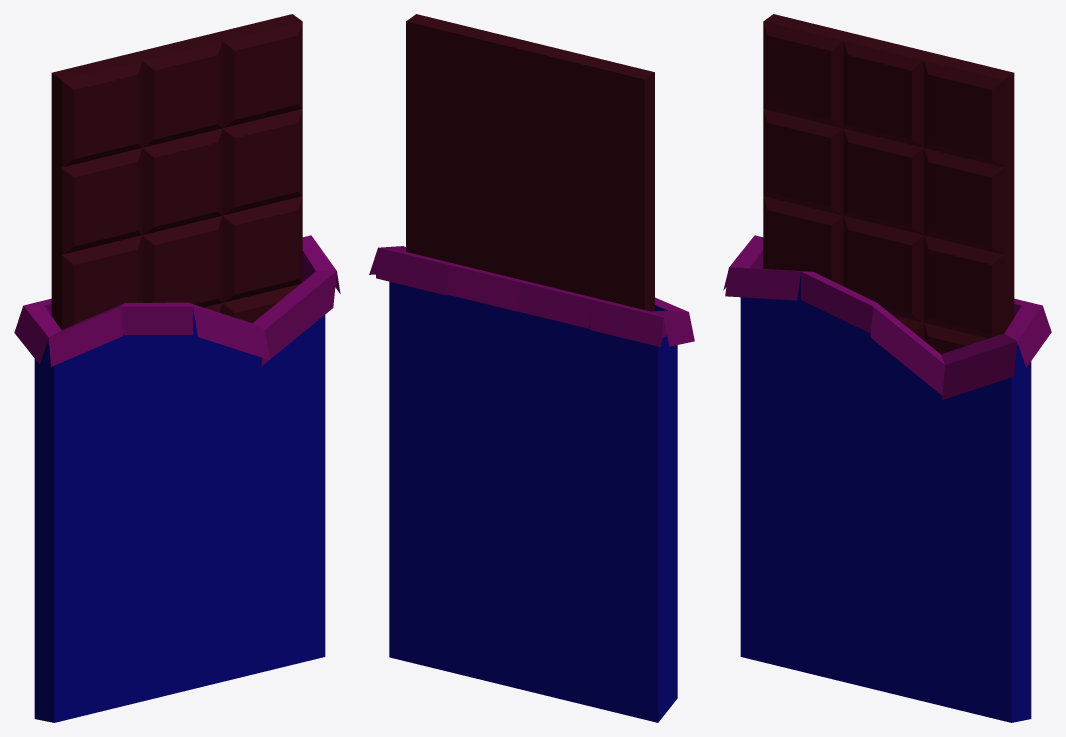
Rendered from Chocolate_01.fbx.
The picture shows the model from 3 angles, left to right: view 1: azimuth 30°, elevation 25°; view 2: azimuth 150°, elevation 25°; view 3: azimuth 330°, elevation 25°; orthographic projection.
Visible parts, largest first — view 1: Chocolate_01; view 2: Chocolate_01; view 3: Chocolate_01.
Part boxes in pixels (left/top/right/bottom): Chocolate_01: left=14, top=14, right=340, bottom=722; Chocolate_01: left=369, top=14, right=694, bottom=722; Chocolate_01: left=723, top=14, right=1051, bottom=722.
Size of the model in its own units: 3.53 by 7.2 by 0.6808.
